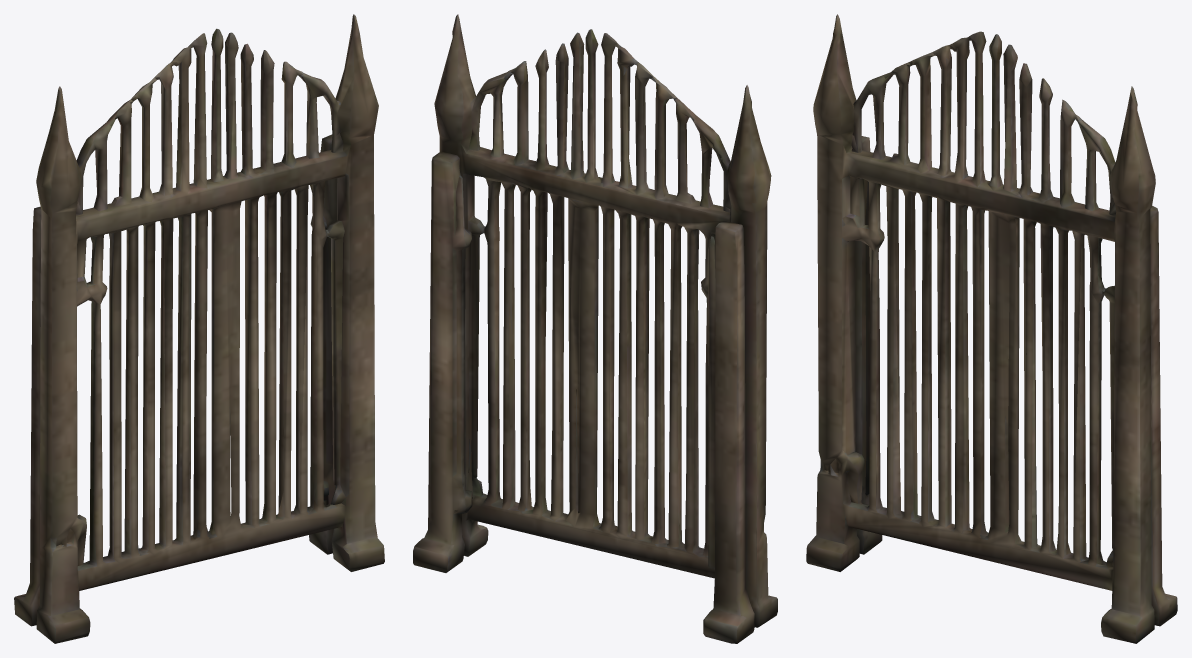
File: ornate-wood-portcullis-v001.glb
The picture shows the model from 3 angles, left to right: view 1: azimuth 30°, elevation 25°; view 2: azimuth 150°, elevation 25°; view 3: azimuth 330°, elevation 25°; orthographic projection.
Visible parts, largest first — view 1: ornate-wood-portcullis; view 2: ornate-wood-portcullis; view 3: ornate-wood-portcullis.
Boxes of the visible parts, x1,y1,x2,y2 form: ornate-wood-portcullis: [14, 14, 384, 643]; ornate-wood-portcullis: [413, 14, 777, 643]; ornate-wood-portcullis: [806, 14, 1177, 643].
Bounding box in the file's own units: 1.58 × 2.52 × 0.3445.
1 material, 1 textured.
